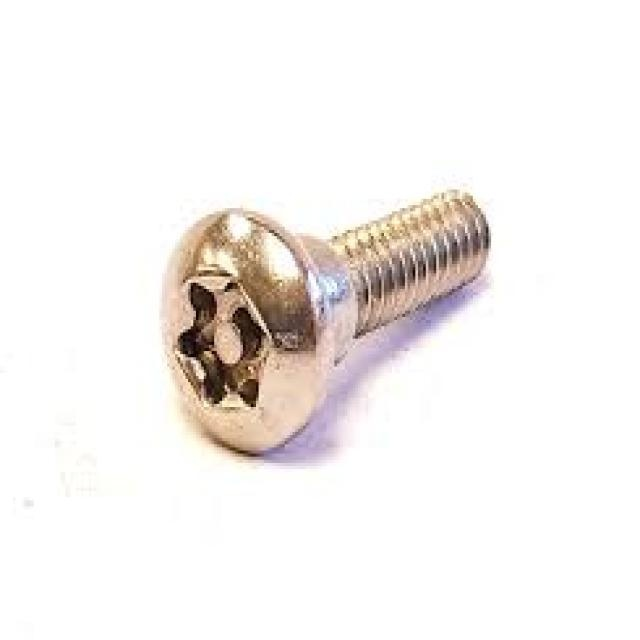torx: (159, 205, 330, 455)
